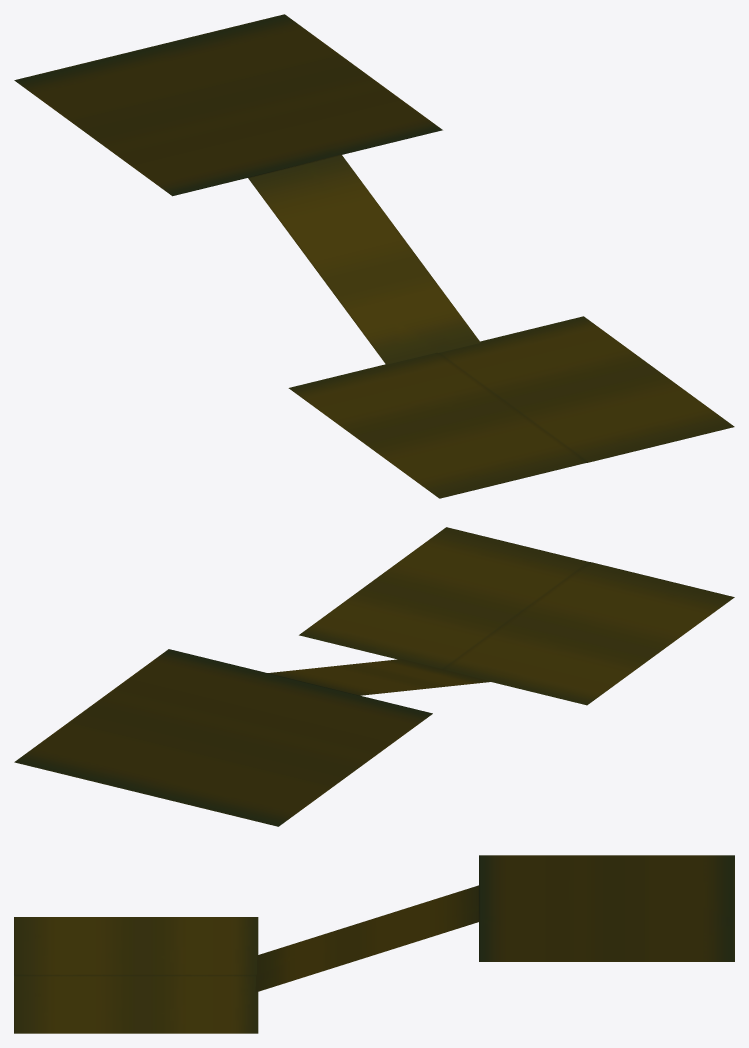
The model's file is testTXTR.glb.
The picture shows the model from 3 angles, top to bottom: view 1: azimuth 30°, elevation 25°; view 2: azimuth 150°, elevation 25°; view 3: azimuth 270°, elevation 25°; orthographic projection. The views are drawn at different scales.
Visible parts, largest first — view 1: Test-col; view 2: Test-col; view 3: Test-col.
Part boxes in pixels (left/top/right/bottom): Test-col: left=14, top=14, right=734, bottom=498; Test-col: left=14, top=527, right=734, bottom=826; Test-col: left=14, top=855, right=734, bottom=1033.
Bounding box in the file's own units: 22.67 × 6.53 × 59.33.
1 material, 1 textured.
